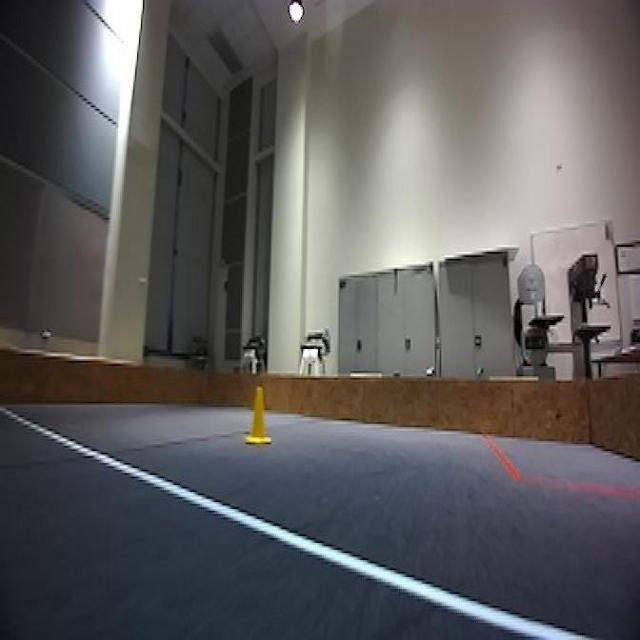frc_cone: (245, 388, 273, 453)
